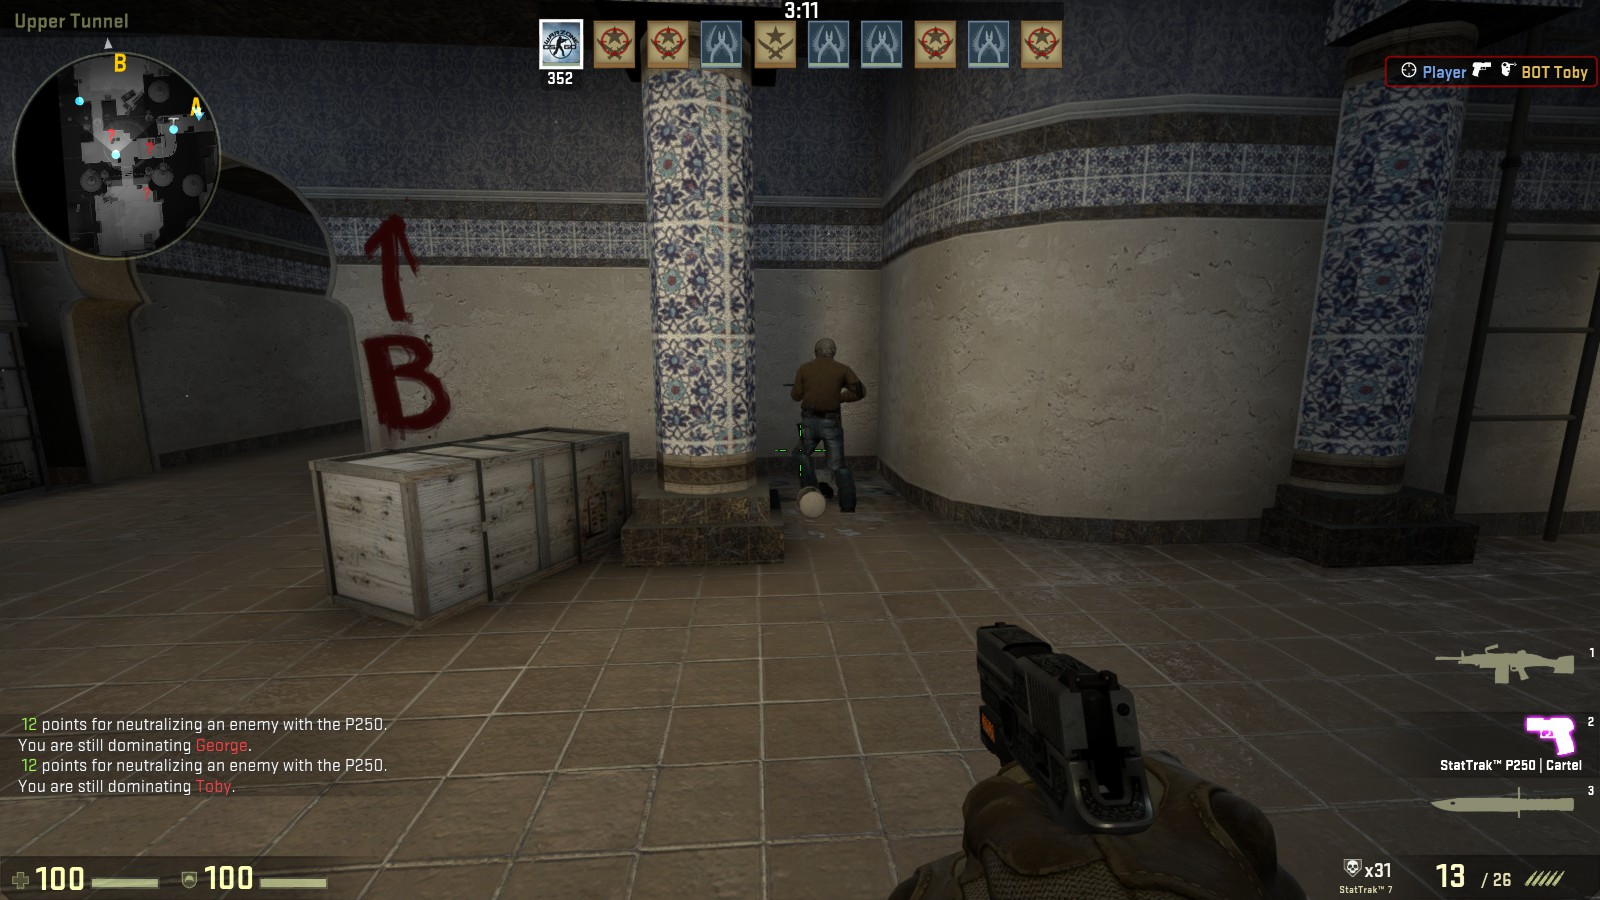t: (796, 332, 856, 509)
th: (811, 336, 840, 363)
